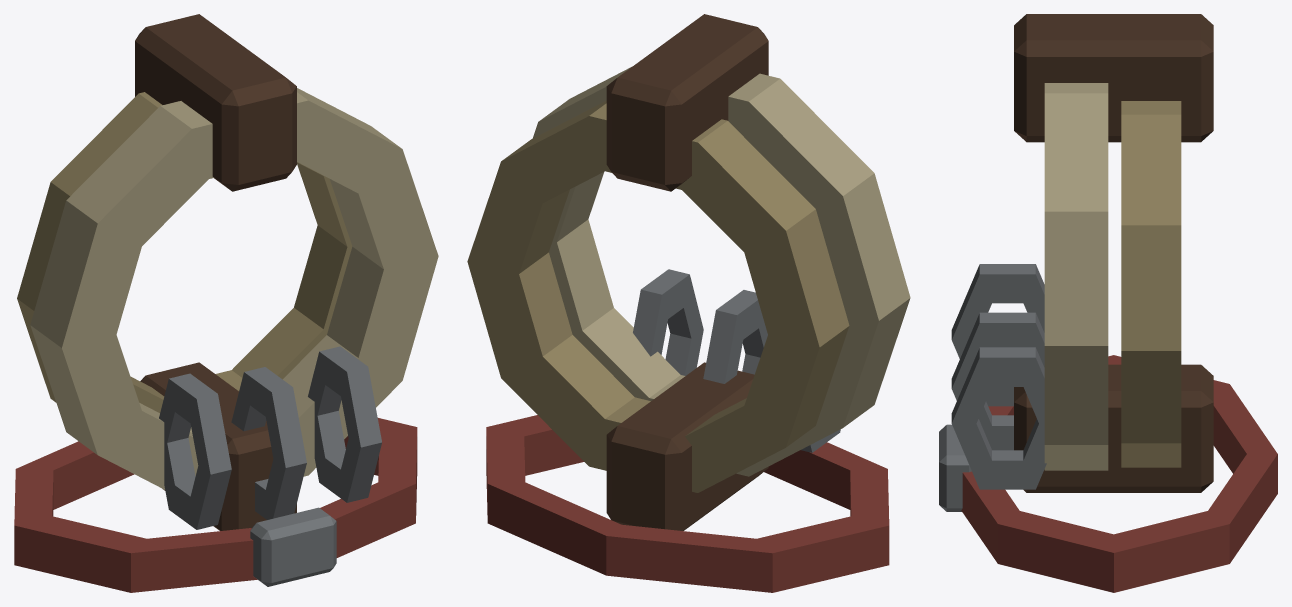
Rendered from item_climbing_gear.glb.
The picture shows the model from 3 angles, left to right: view 1: azimuth 30°, elevation 25°; view 2: azimuth 150°, elevation 25°; view 3: azimuth 270°, elevation 25°; orthographic projection.
Parts seen in each view (by area): view 1: climbing_gear; view 2: climbing_gear; view 3: climbing_gear.
Part boxes in pixels (x1,y1,x2,y2): climbing_gear: (14, 14, 438, 592); climbing_gear: (467, 14, 910, 592); climbing_gear: (939, 14, 1277, 592).
Size of the model in its own units: 0.3754 by 0.415 by 0.2714.
